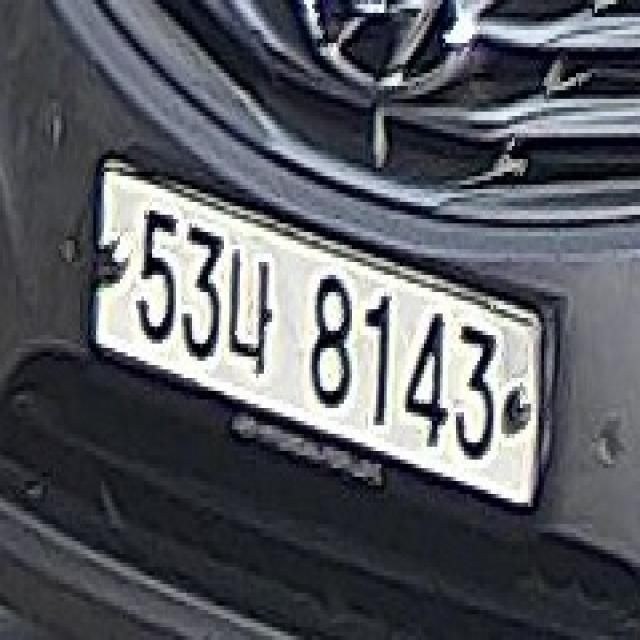1: (355, 279, 400, 430)
3: (451, 314, 506, 486), (184, 215, 227, 361)
4: (402, 300, 450, 460)
5: (133, 202, 179, 344)
8: (312, 271, 363, 408)
license_plate: (82, 155, 554, 524)
na: (224, 232, 277, 378)
